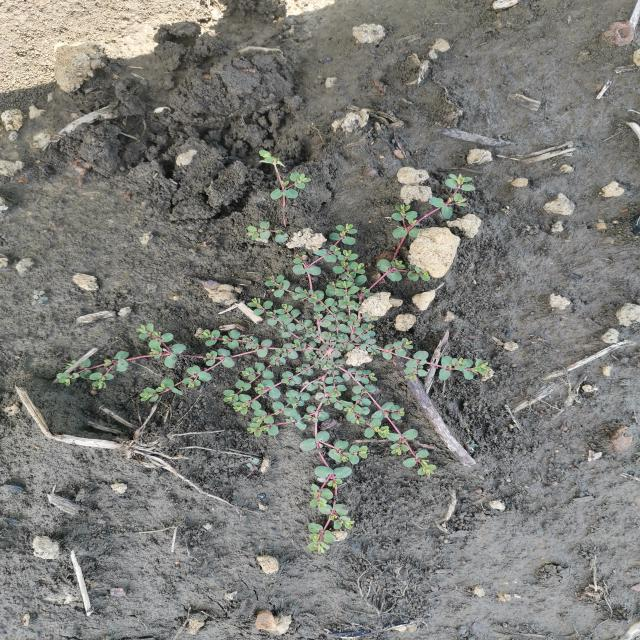SpottedSpurge: (51, 148, 497, 558)
